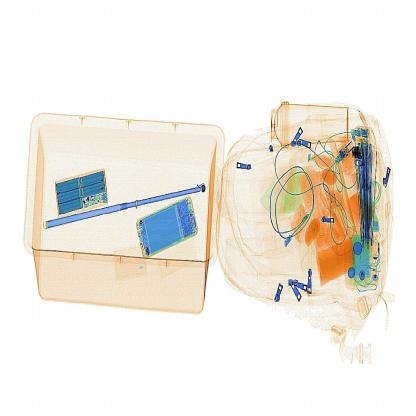scissors: (346, 142, 366, 169)
